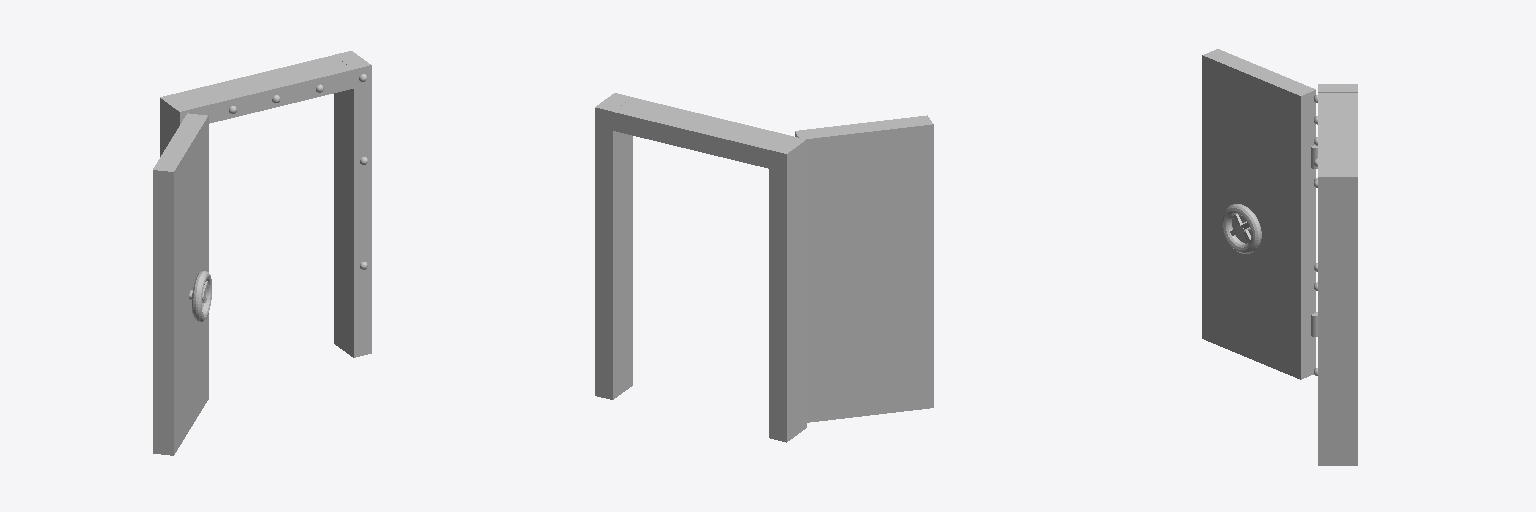
File: door.obj
3 views of the same model, side by side, from view 1: azimuth 30°, elevation 25°; view 2: azimuth 150°, elevation 25°; view 3: azimuth 270°, elevation 25° (orthographic).
Visible parts, largest first — view 1: Cube.004_Cube.006; view 2: Cube.004_Cube.006; view 3: Cube.004_Cube.006.
Part boxes in pixels (x1,y1,x2,y2): Cube.004_Cube.006: (153, 51, 371, 455); Cube.004_Cube.006: (595, 93, 933, 442); Cube.004_Cube.006: (1202, 49, 1357, 465).
Size of the model in its own units: 1.92 by 1.97 by 0.959.